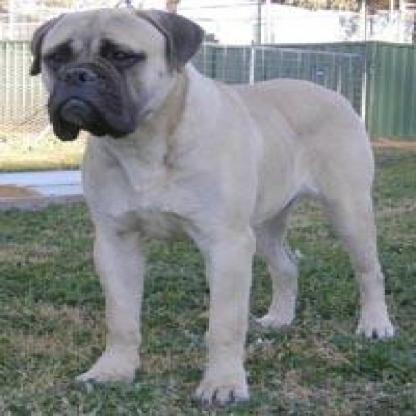bull_mastiff: (21, 3, 399, 406)
